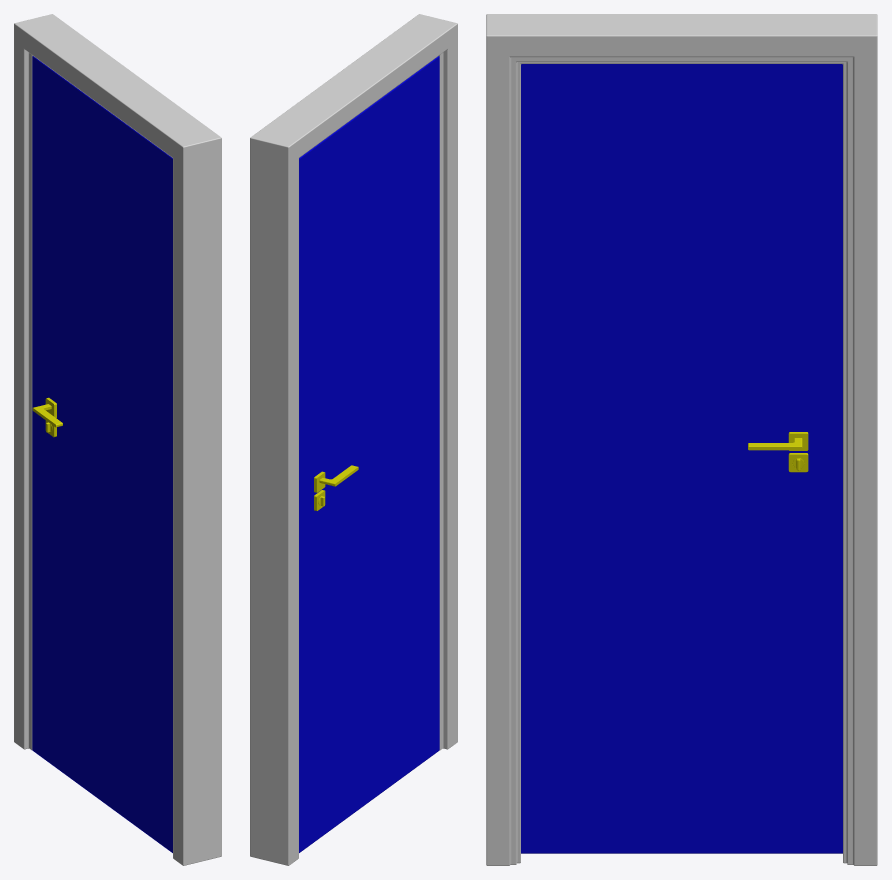
File: Door.fbx
3 views of the same model, side by side, from view 1: azimuth 30°, elevation 25°; view 2: azimuth 150°, elevation 25°; view 3: azimuth 270°, elevation 25° (orthographic). The views are drawn at different scales.
Parts seen in each view (by area): view 1: Door_Body, Door_Frame; view 2: Door_Body, Door_Frame; view 3: Door_Body, Door_Frame.
Part boxes in pixels (x1,y1,x2,y2): Door_Body: (32, 56, 172, 852); Door_Frame: (14, 14, 221, 865); Door_Body: (299, 56, 439, 852); Door_Frame: (250, 14, 457, 865); Door_Body: (521, 64, 842, 853); Door_Frame: (486, 14, 877, 865).
Size of the model in its own units: 0.1623 by 2.11 by 0.9.
